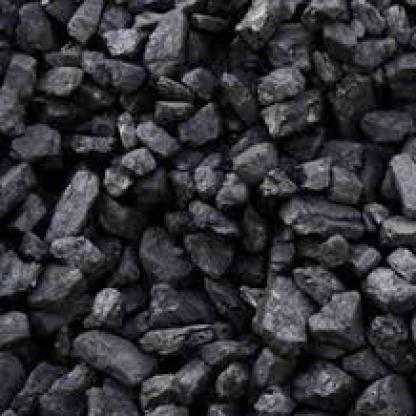Sedimentary_coal: (67, 320, 149, 388), (50, 157, 97, 240), (258, 275, 309, 345), (130, 229, 198, 281), (232, 0, 300, 46), (122, 113, 180, 164), (145, 8, 193, 65), (384, 152, 414, 220), (258, 65, 313, 101), (38, 59, 80, 101)
